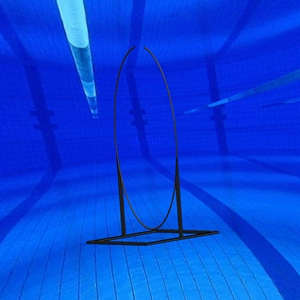circle: (86, 45, 220, 245)
